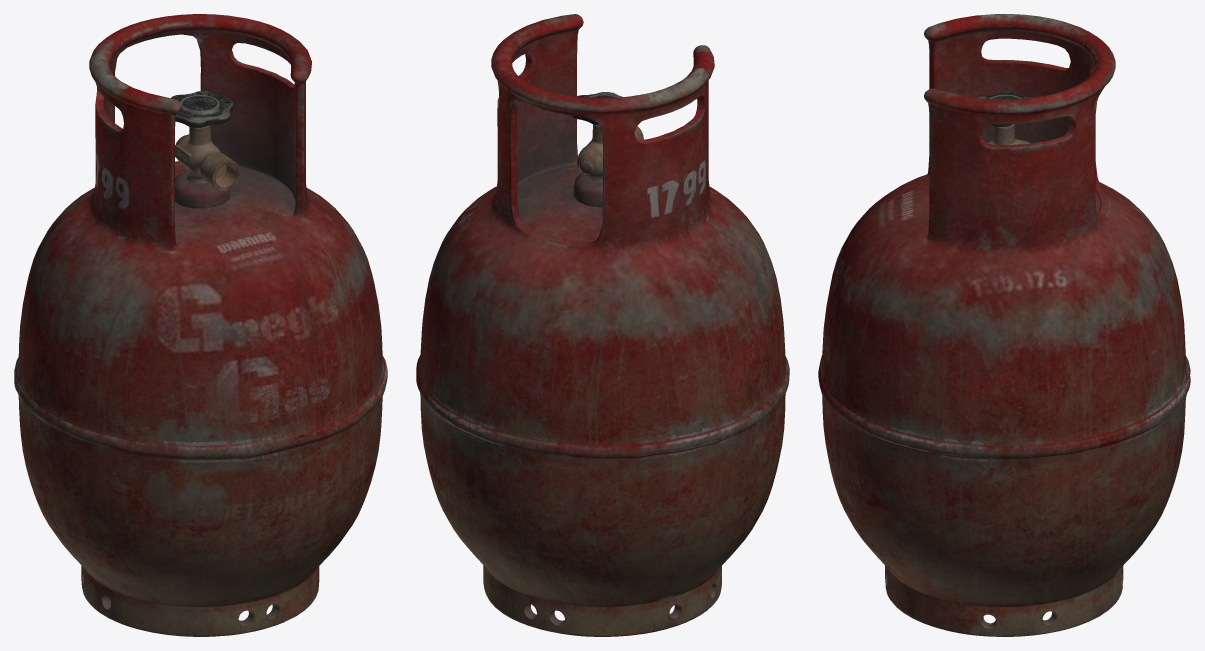
File: small_lpg_tank.gltf
3 renders of one model, left to right at view 1: azimuth 30°, elevation 25°; view 2: azimuth 150°, elevation 25°; view 3: azimuth 270°, elevation 25°, orthographic.
Parts seen in each view (by area): view 1: small_lpg_tank; view 2: small_lpg_tank; view 3: small_lpg_tank.
Boxes of the visible parts, x1,y1,x2,y2 form: small_lpg_tank: (14, 14, 387, 636); small_lpg_tank: (416, 14, 789, 636); small_lpg_tank: (818, 14, 1190, 636).
Size of the model in its own units: 0.41 by 0.642 by 0.4092.
Materials: 1 (1 with a texture image).
